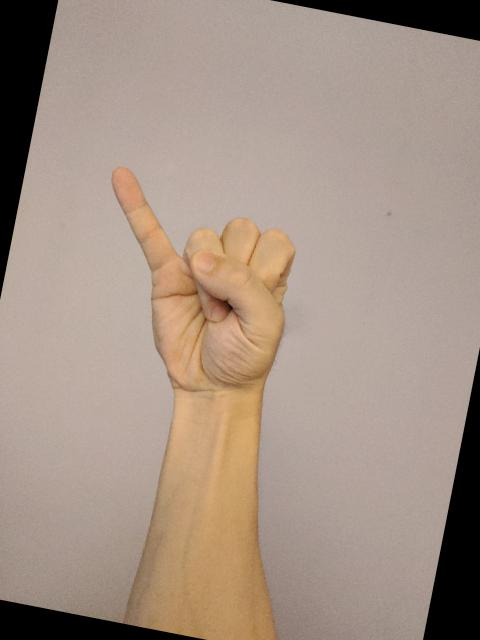I: (69, 160, 315, 408)
